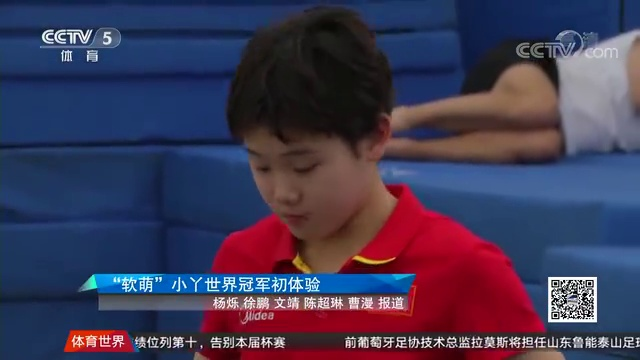face: (247, 134, 372, 240)
